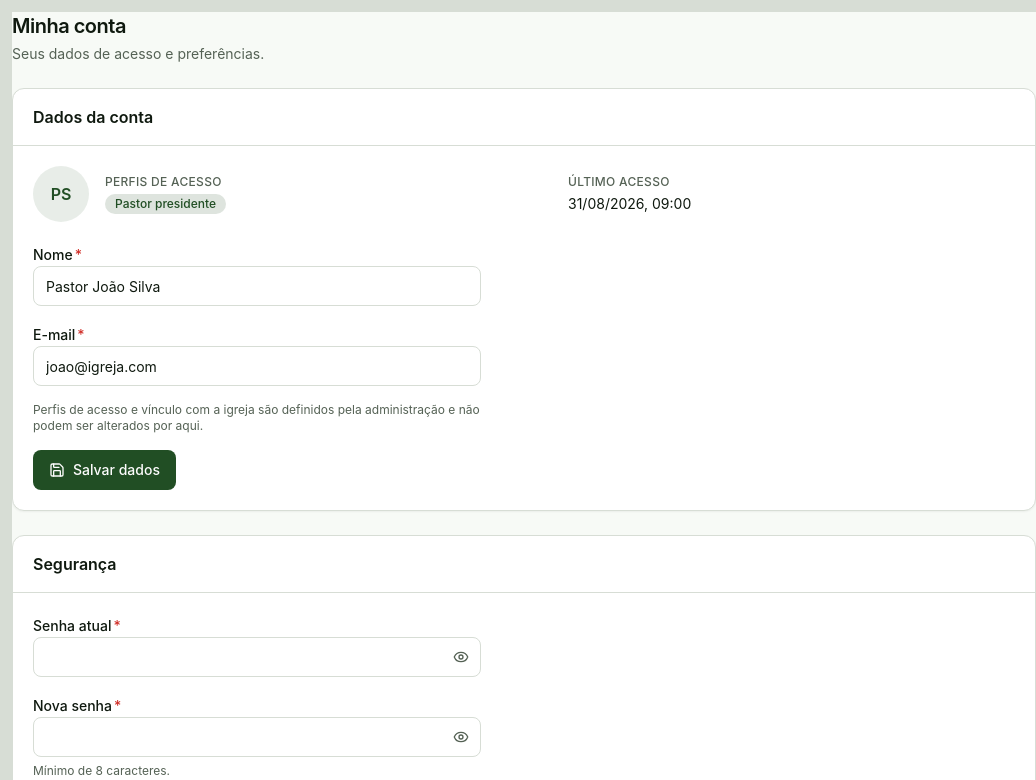
Test: minha conta › exige a senha atual ao trocar o e-mail
Replace the text in the field labelled "E-mail*" with "novo@igreja.com" at (257,366), box [33,346,481,386]
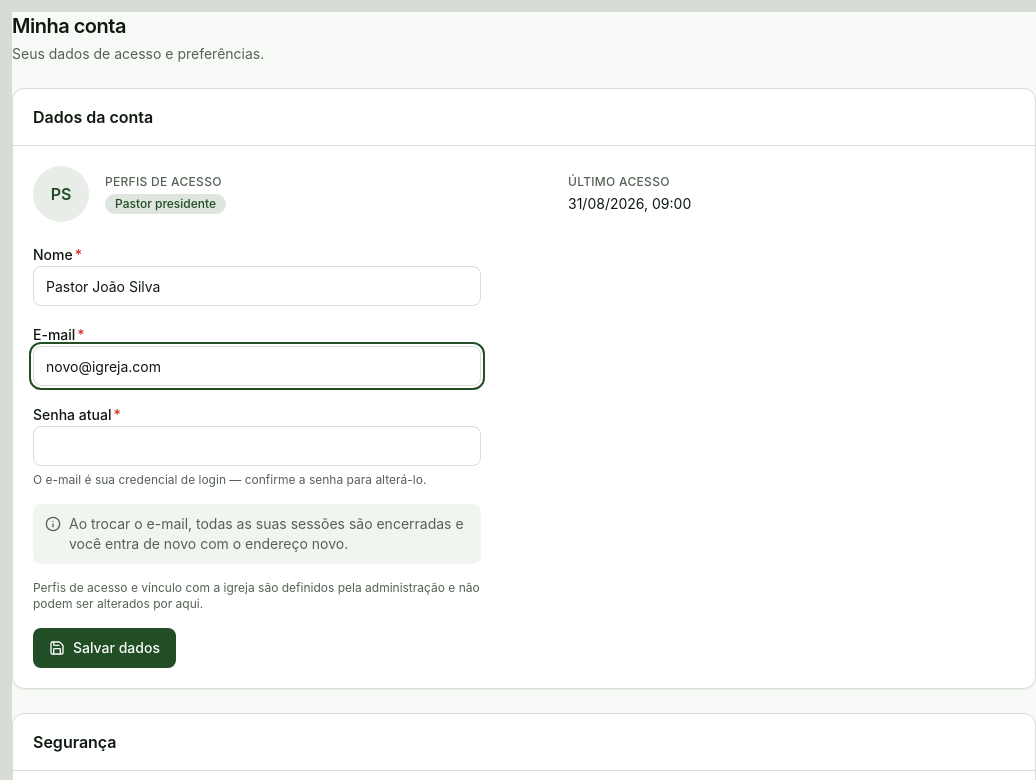
Click the button "Salvar dados" at (104,648), box [33,628,176,668]
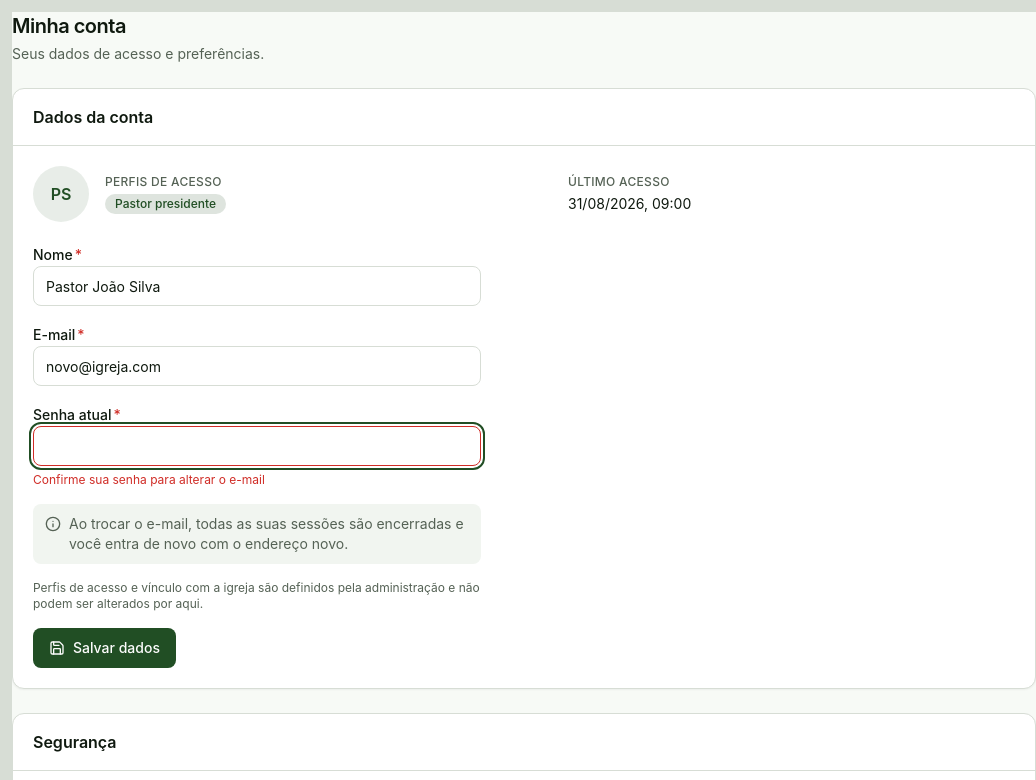
Expected: the text "Confirme sua senha para alterar o e-mail" is shown, [33,472,265,487]
